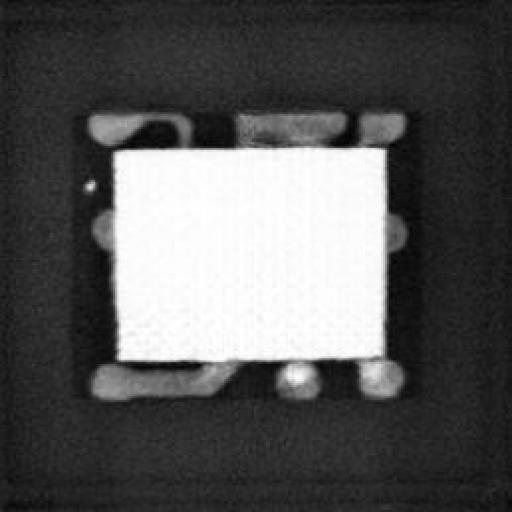DIE_INK: (78, 172, 98, 192)
